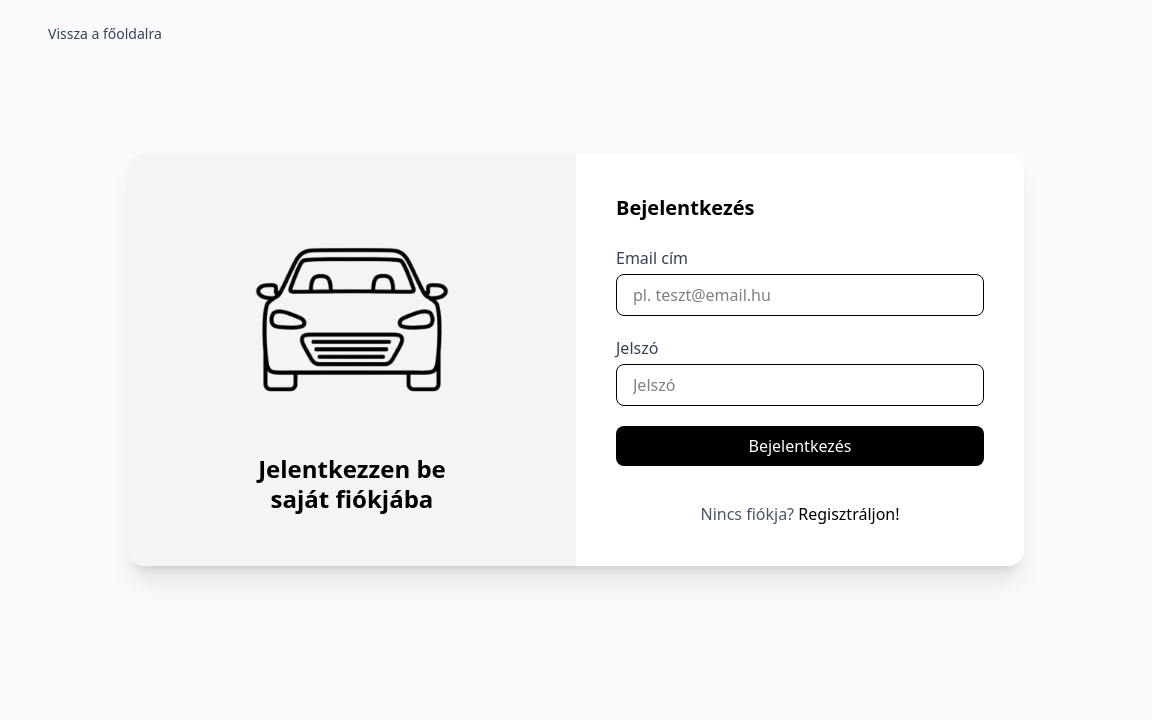
Test case: Frontend – Login & Regisztráció › 7. Login – rossz adatokkal hibaüzenet jelenik meg
The width and height of the screenshot is (1152, 720).
Type "nemletezik@email.hu" into the field with placeholder "pl. teszt@email.hu" at x=800, y=295, box [616,274,984,316]
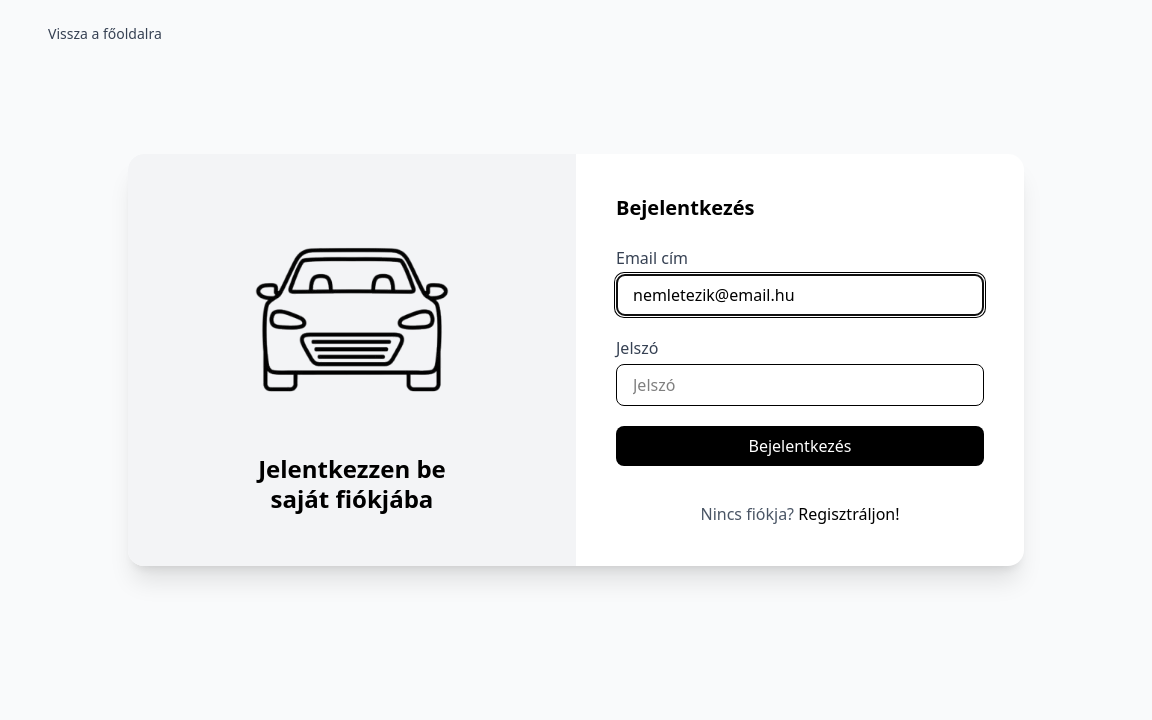
Type "rossz_jelszo" into the password field with placeholder "Jelszó" at x=800, y=385, box [616,364,984,406]
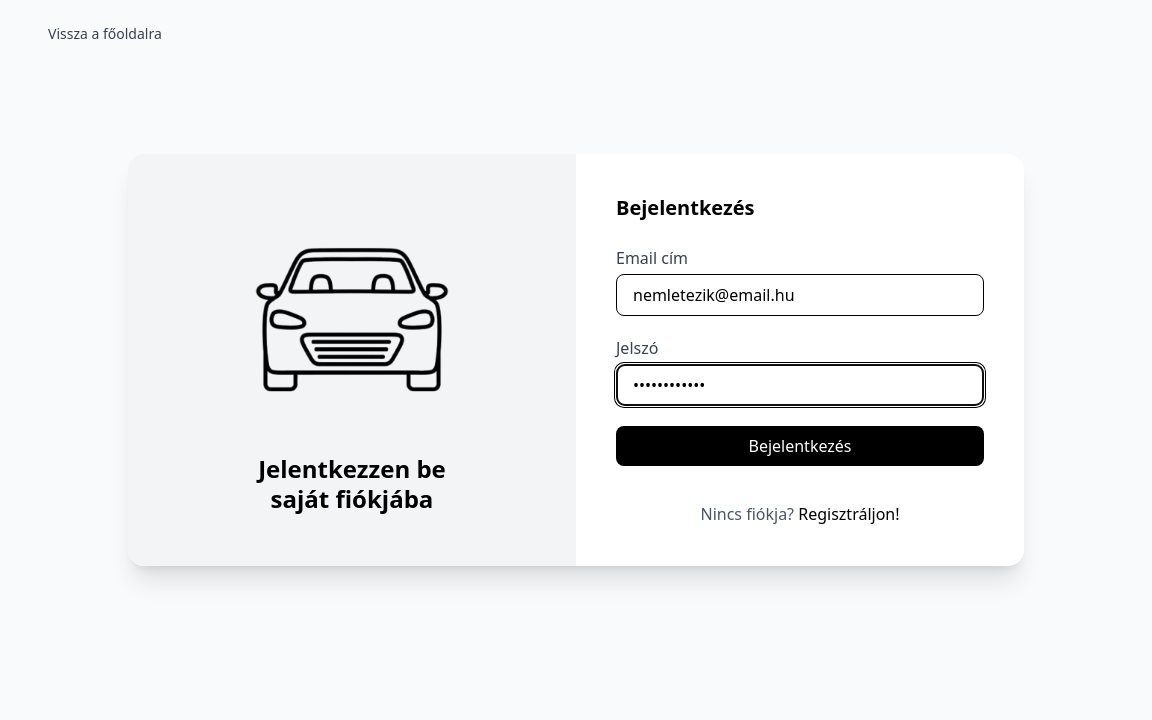
Click the submit button at x=800, y=446, box [616,426,984,466]
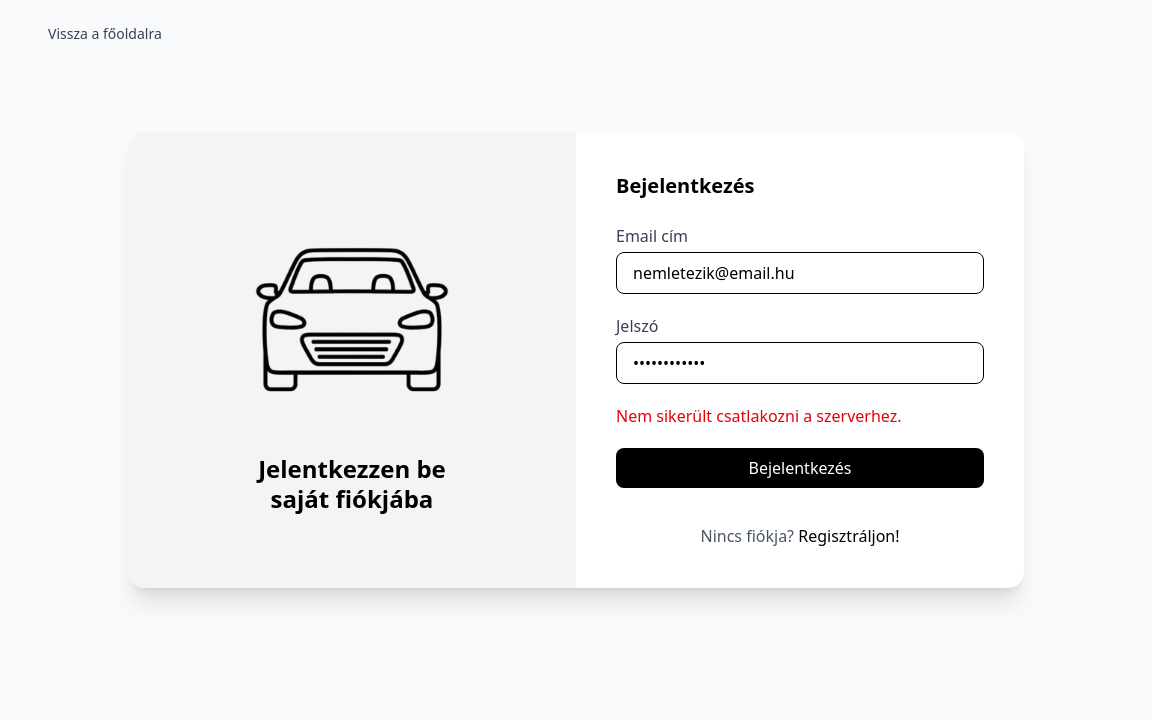
Expected: the text "Nem sikerült csatlakozni a szerverhez." is shown, [616,405,902,427]
